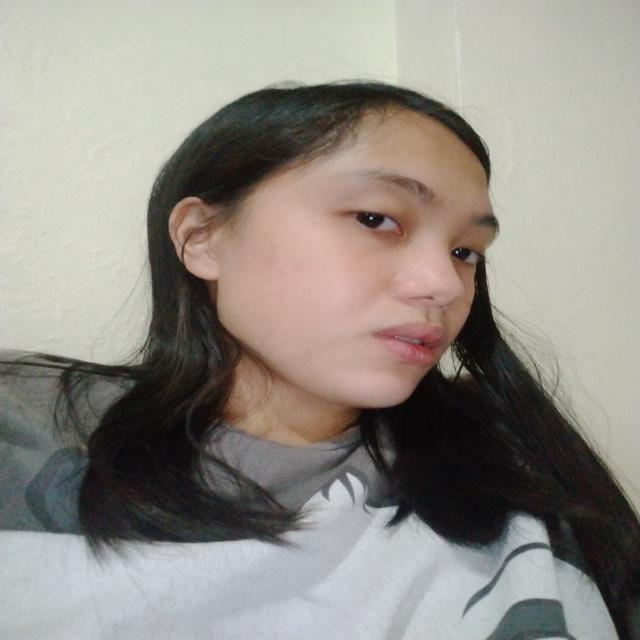Acne: (273, 281, 289, 300), (290, 261, 307, 273), (260, 258, 278, 268)
